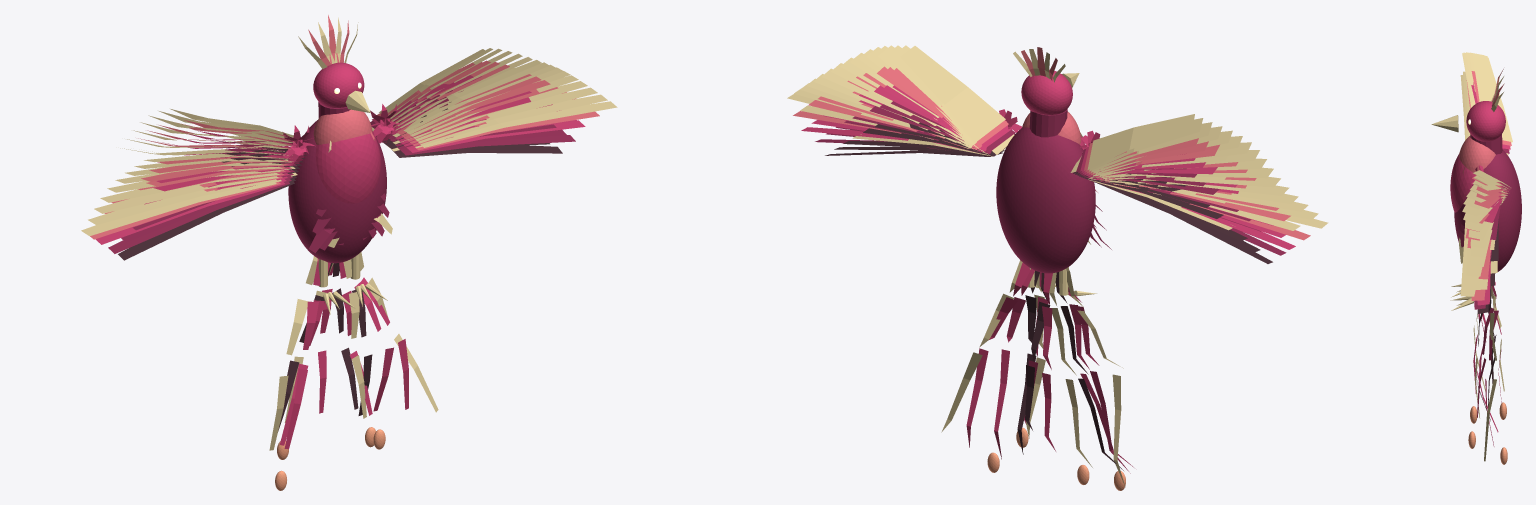
Rendered from royal-phoenix-v1.glb.
3 views of the same model, side by side, from view 1: azimuth 30°, elevation 25°; view 2: azimuth 150°, elevation 25°; view 3: azimuth 270°, elevation 25° (orthographic). The views are drawn at different scales.
Parts seen in each view (by area): view 1: Body, Chest, Head, UpperChest, Wing_-1_69, Wing_1_69, Wing_-1_68, Wing_-1_11, Wing_1_68, Wing_1_67, Wing_-1_67, Wing_-1_24 (+5 smaller); view 2: Body, Wing_1_54, Wing_-1_54, Head, Neck; view 3: Body, Head, Wing_-1_54, Chest, UpperChest, Wing_1_68, Wing_1_69, Neck, Tail_12_2, Beak, Wing_1_67, Wing_1_65 (+28 smaller).
Boxes of the visible parts, x1,y1,x2,y2 form: Body: (288, 120, 386, 263); Chest: (315, 132, 380, 203); Head: (313, 62, 364, 107); UpperChest: (313, 109, 372, 144); Wing_-1_69: (81, 182, 276, 236); Wing_1_69: (423, 101, 617, 147); Wing_-1_68: (88, 179, 277, 224); Wing_-1_11: (118, 181, 294, 260); Wing_1_68: (420, 94, 607, 145); Wing_1_67: (418, 87, 597, 143); Wing_-1_67: (94, 176, 278, 213); Wing_-1_24: (108, 182, 289, 253); Body: (996, 127, 1095, 273); Wing_1_54: (900, 46, 1005, 142); Wing_-1_54: (1087, 114, 1194, 169); Head: (1021, 69, 1072, 114); Neck: (1029, 109, 1067, 137); Body: (1454, 150, 1521, 273); Head: (1466, 101, 1505, 141); Wing_-1_54: (1472, 57, 1512, 142); Chest: (1450, 154, 1475, 212); UpperChest: (1459, 136, 1495, 172); Wing_1_68: (1463, 220, 1478, 286); Wing_1_69: (1460, 220, 1476, 296); Neck: (1470, 134, 1502, 154); Tail_12_2: (1484, 379, 1496, 461); Beak: (1431, 115, 1458, 132); Wing_1_67: (1466, 238, 1482, 276); Wing_1_65: (1471, 230, 1492, 257).
Bounding box in the file's own units: 14.24 × 9 × 1.93.
